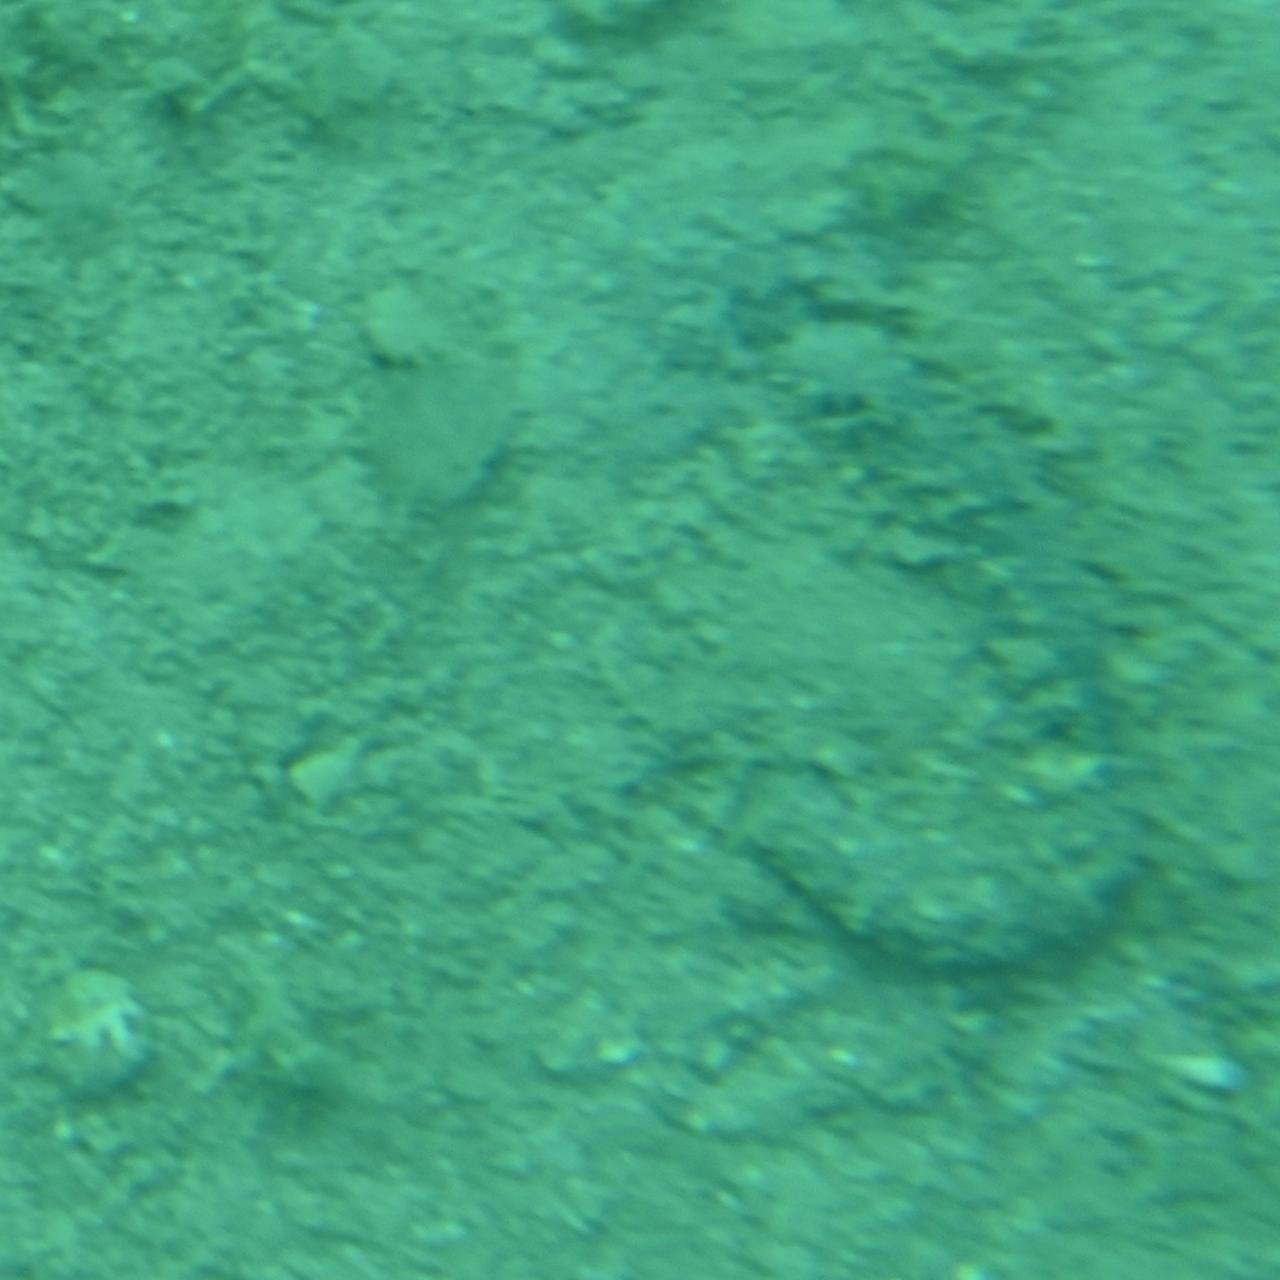Holothuria tubulosa: (732, 286, 1166, 994)
